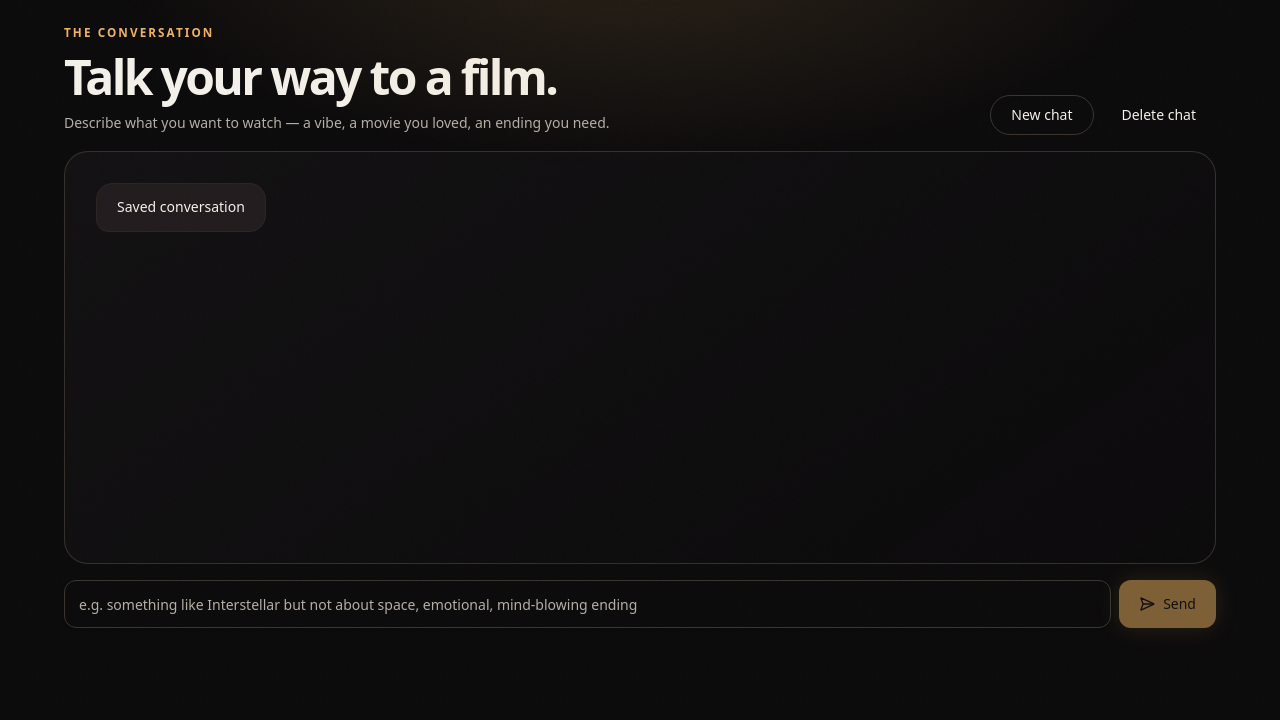
it: AI chat › deletes a conversation after confirmation and clears the browser selection
Expected: the field named "Chat message" is enabled, [64,580,1111,628]
Click the button "Delete chat". click: (1159, 115)
box: [1102,95,1216,135]
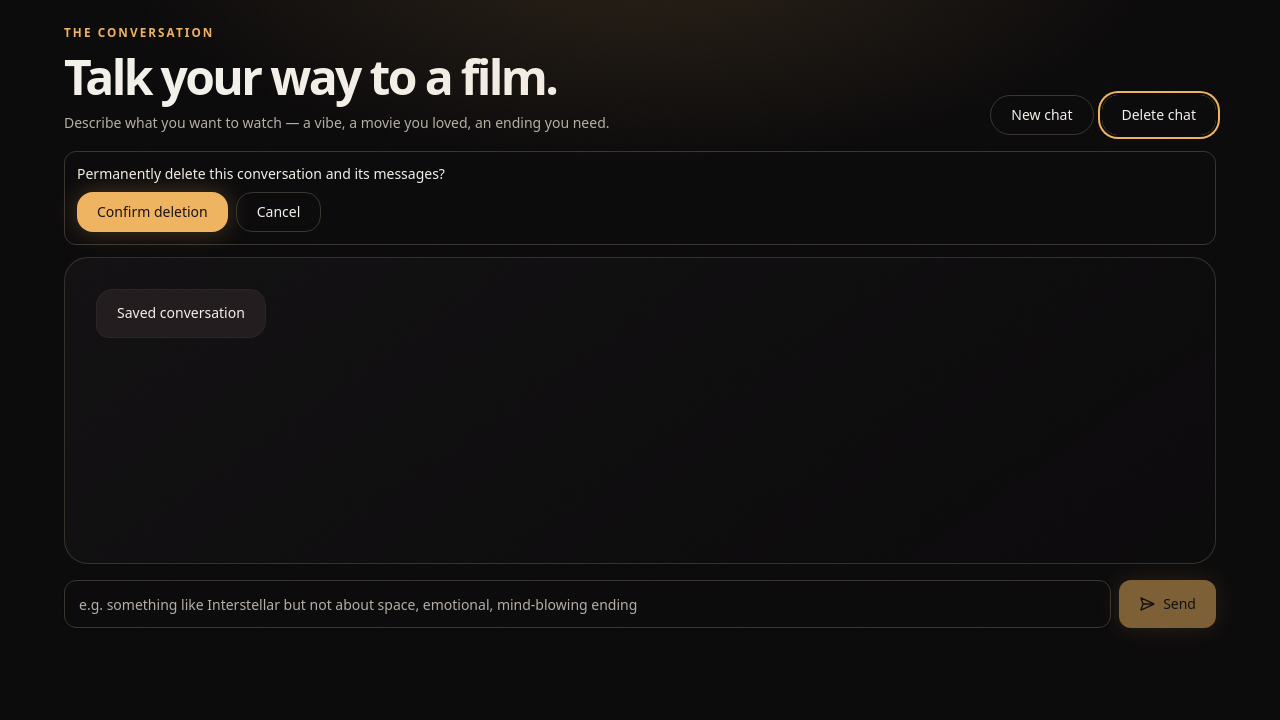
Click the button "Confirm deletion". click: (152, 212)
box: [77,192,228,232]
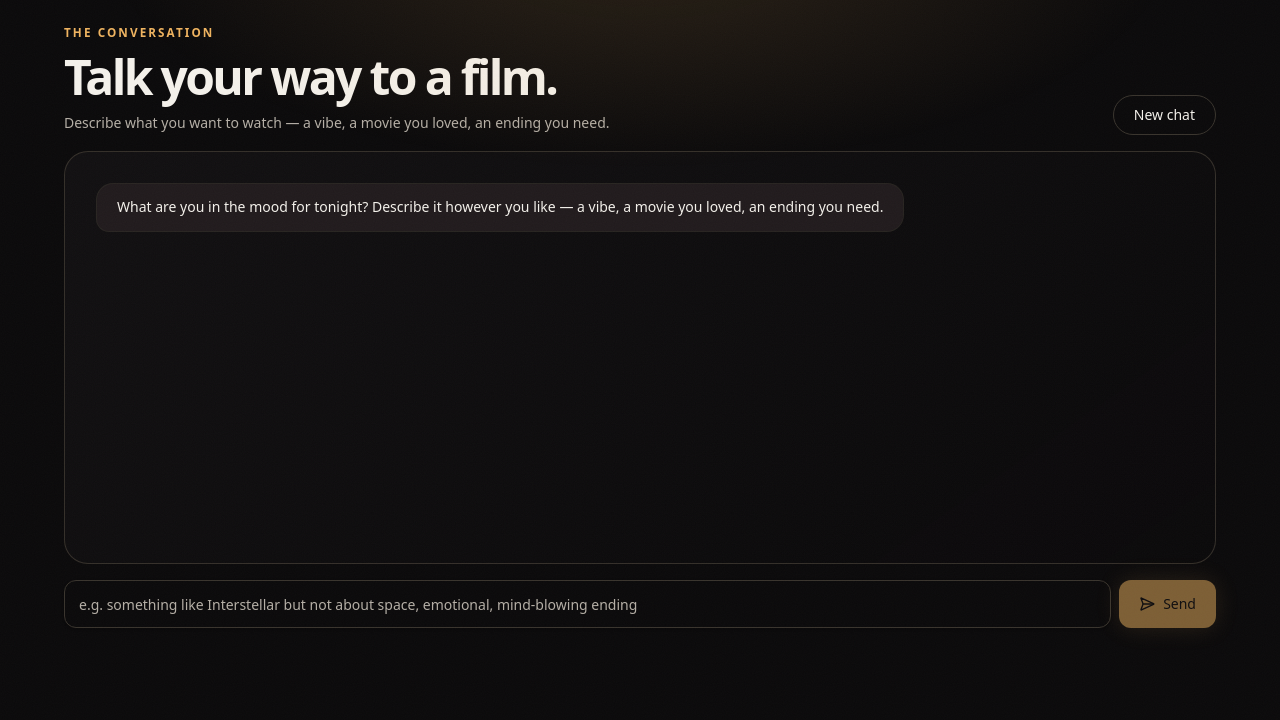
Result: the text "Saved conversation" is gone
